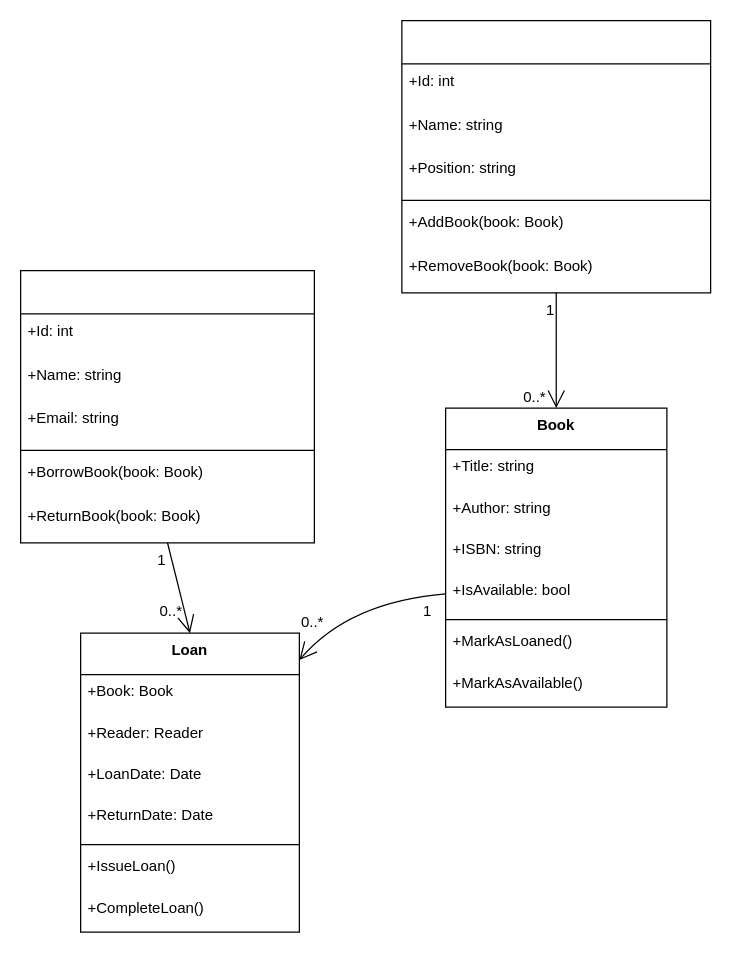
The diagram is 731 pixels wide and 953 high, and some of its shapes have lost their labels. The box of each missing label's shape, as (x1, y1, x2, y2) in pixels:
Librarian: (401, 19, 711, 293)
Reader: (19, 269, 314, 543)
